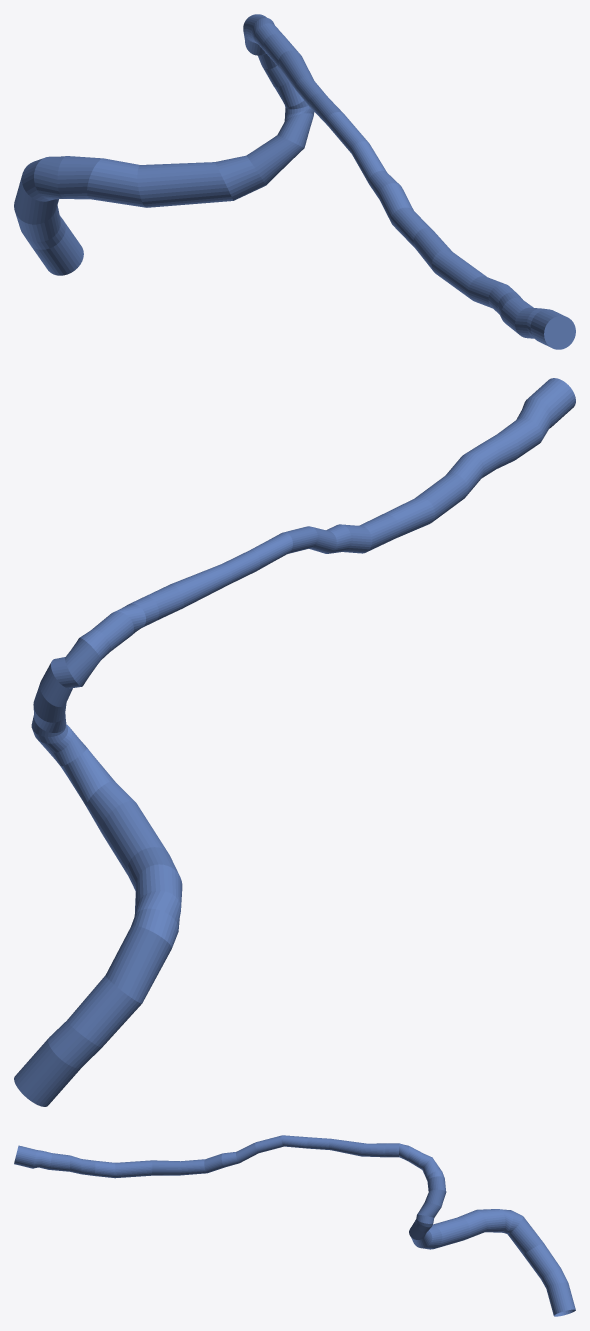
File: R_Sigmoid_Jugular.fbx
3 renders of one model, top to bottom at view 1: azimuth 30°, elevation 25°; view 2: azimuth 150°, elevation 25°; view 3: azimuth 270°, elevation 25°, orthographic. The views are drawn at different scales.
Parts seen in each view (by area): view 1: S_R_Sigmoid_Sinus, V_R_Internal_Jugular_Vein; view 2: S_R_Sigmoid_Sinus, V_R_Internal_Jugular_Vein; view 3: V_R_Internal_Jugular_Vein, S_R_Sigmoid_Sinus.
Boxes of the visible parts, <box> form: S_R_Sigmoid_Sinus: <box>14,27,314,275</box>; V_R_Internal_Jugular_Vein: <box>243,14,575,349</box>; S_R_Sigmoid_Sinus: <box>14,657,182,1106</box>; V_R_Internal_Jugular_Vein: <box>65,378,575,686</box>; V_R_Internal_Jugular_Vein: <box>14,1135,441,1178</box>; S_R_Sigmoid_Sinus: <box>409,1170,575,1316</box>.
Size of the model in its own units: 10607 by 16582 by 44465.
